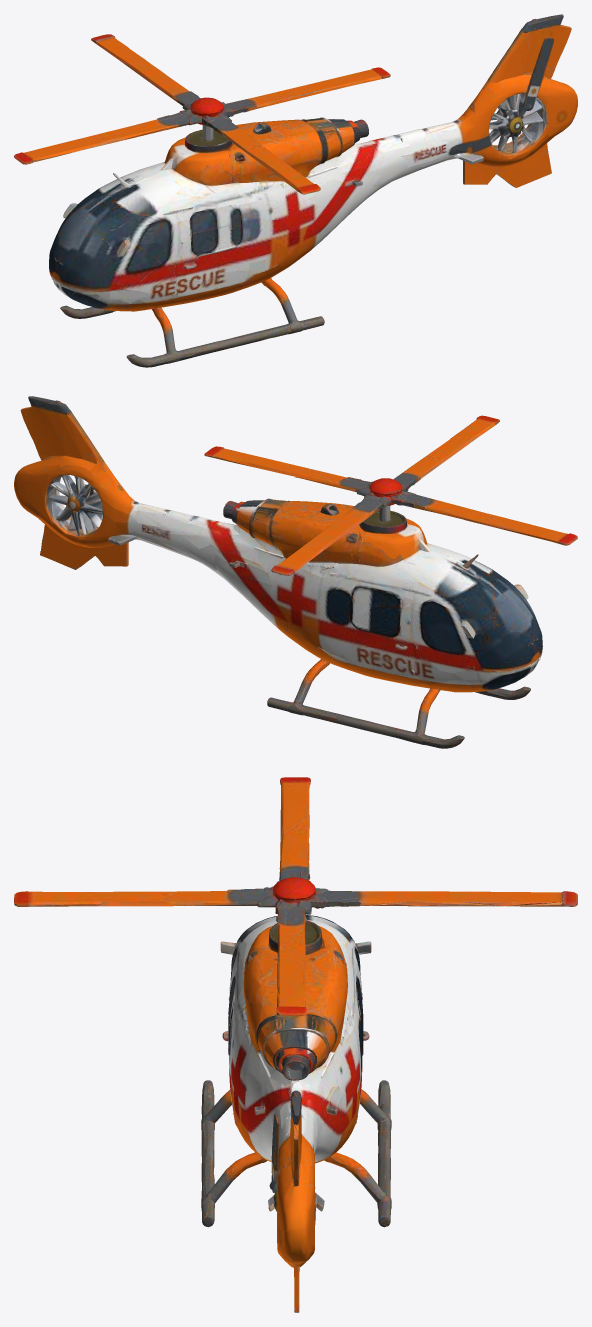
Rendered from heli.glb.
3 views of the same model, one above another, from view 1: azimuth 30°, elevation 25°; view 2: azimuth 150°, elevation 25°; view 3: azimuth 270°, elevation 25° (orthographic). The views are drawn at different scales.
Bounding box in the file's own units: 1.9 × 0.7215 × 1.25.
Materials: 1 (1 with a texture image).
